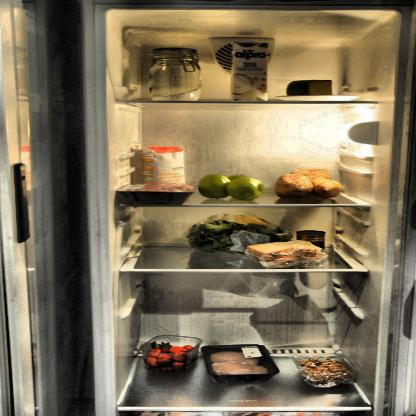apple: (198, 174, 262, 202)
cheese: (286, 78, 338, 99)
chicken: (206, 343, 276, 383)
corn: (298, 230, 328, 250)
milk: (229, 39, 274, 105)
shrimp: (294, 353, 364, 388)
spinach: (188, 214, 291, 253)
strawberries: (144, 342, 198, 370)
sweet_potato: (272, 166, 348, 201)
